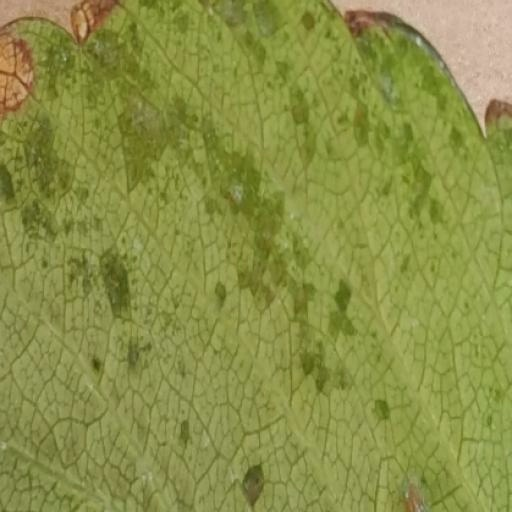Angular Leafspot: (0, 0, 511, 511)
